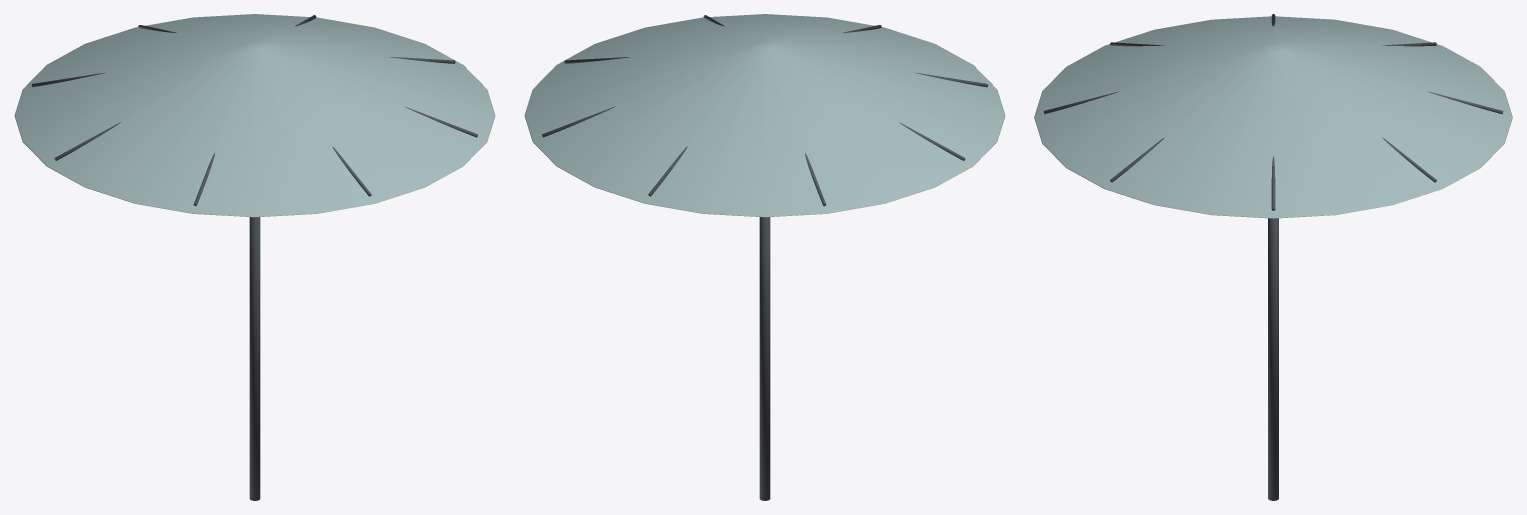
The model's file is atelier-patio-umbrella.glb.
The picture shows the model from 3 angles, left to right: view 1: azimuth 30°, elevation 25°; view 2: azimuth 150°, elevation 25°; view 3: azimuth 270°, elevation 25°; orthographic projection.
Parts seen in each view (by area): view 1: fabric.099, metal.174; view 2: fabric.099, metal.174; view 3: fabric.099, metal.174.
Part boxes in pixels (box(x1,y1,x2,y2)): fabric.099: box(14, 14, 495, 217); metal.174: box(31, 15, 477, 500); fabric.099: box(524, 14, 1005, 217); metal.174: box(542, 15, 988, 500); fabric.099: box(1034, 16, 1512, 218); metal.174: box(1043, 14, 1503, 500).
Bounding box in the file's own units: 2.19 × 2.28 × 2.19.
